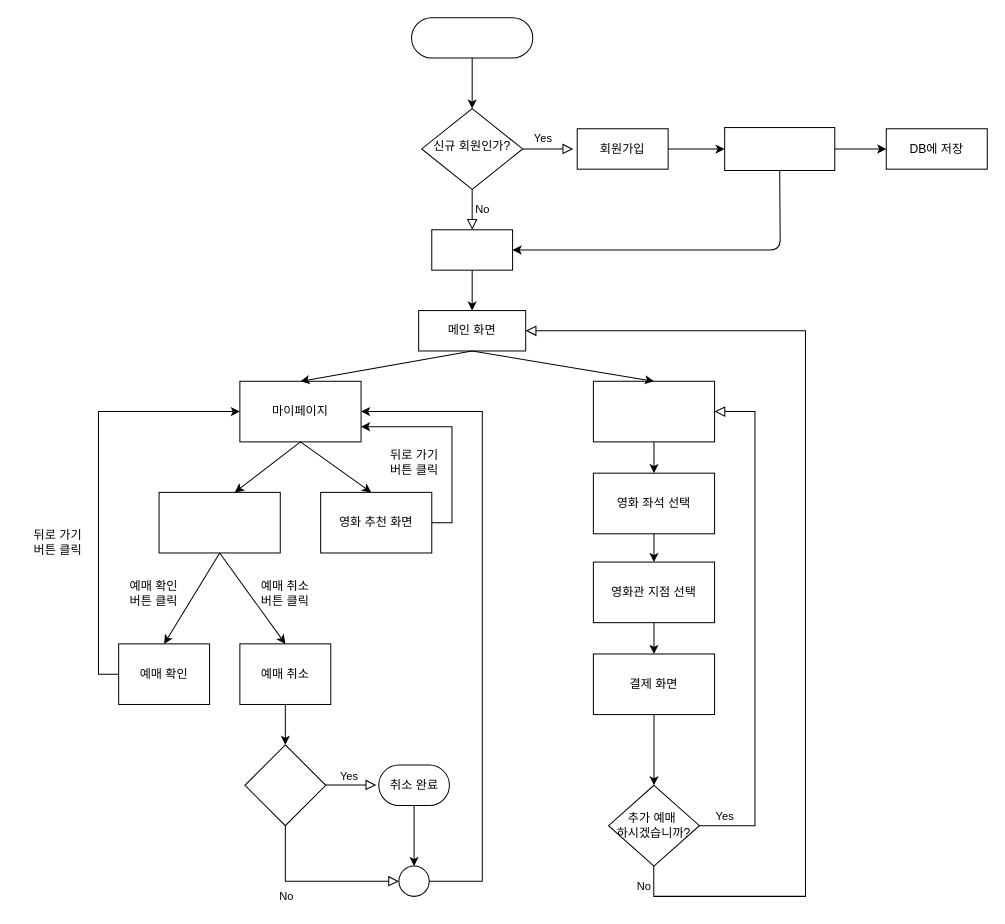
The diagram is 1005 pixels wide and 924 high, and some of its shapes have lost their labels. The box of each missing label's shape, as (x1, y1, x2, y2) in pixels:
로그인: (431, 229, 513, 270)
사용자 취향 분석: (724, 127, 835, 170)
영화 선택 화면: (592, 380, 715, 442)
예매 확인 화면: (158, 491, 280, 553)
초기 화면: (411, 17, 533, 58)
취소하시겠습니까?: (244, 744, 326, 826)
